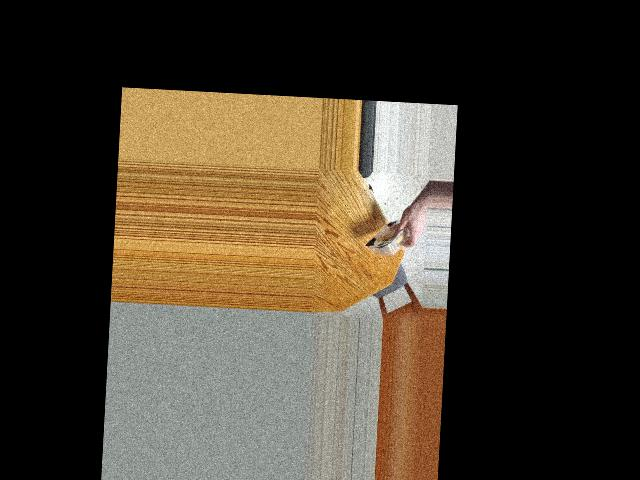cheese: (367, 204, 413, 266)
